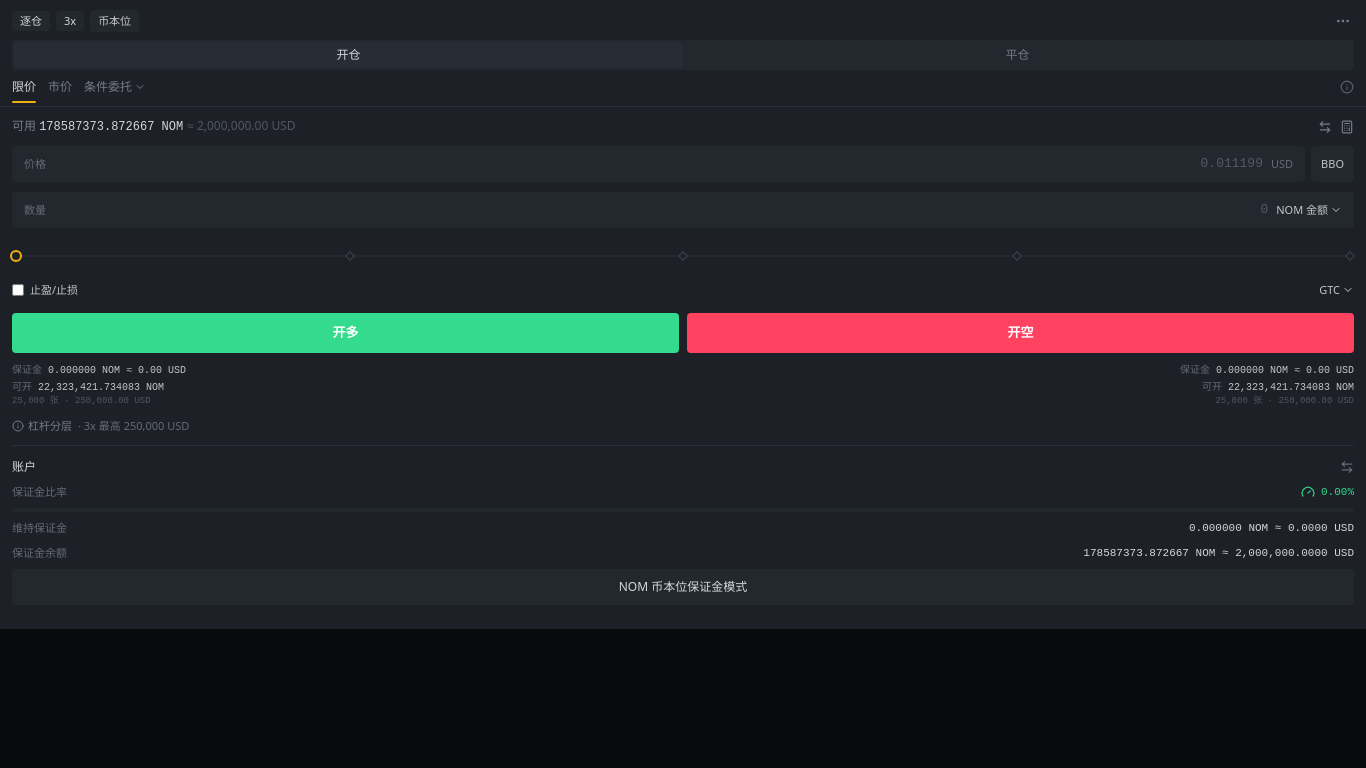
Test: 条件委托按触发价折算 › 【回归】填 1000 币：提示写 966.744006，不是市价折出来的 892.94
Click the button with test id "advanced-type-slot" at (115, 90), box [84,78,146,102]
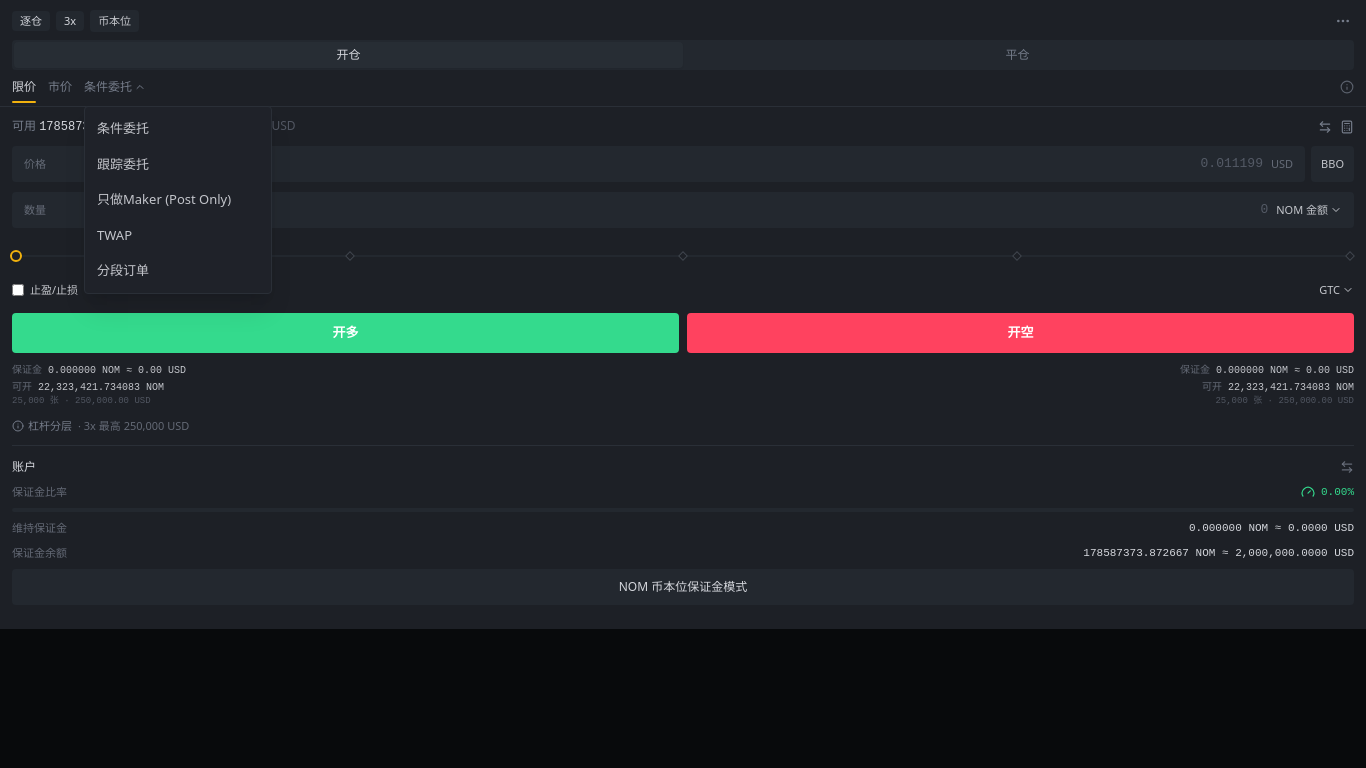
Click the 2nd button "条件委托" at (178, 129), box [85,111,271,146]
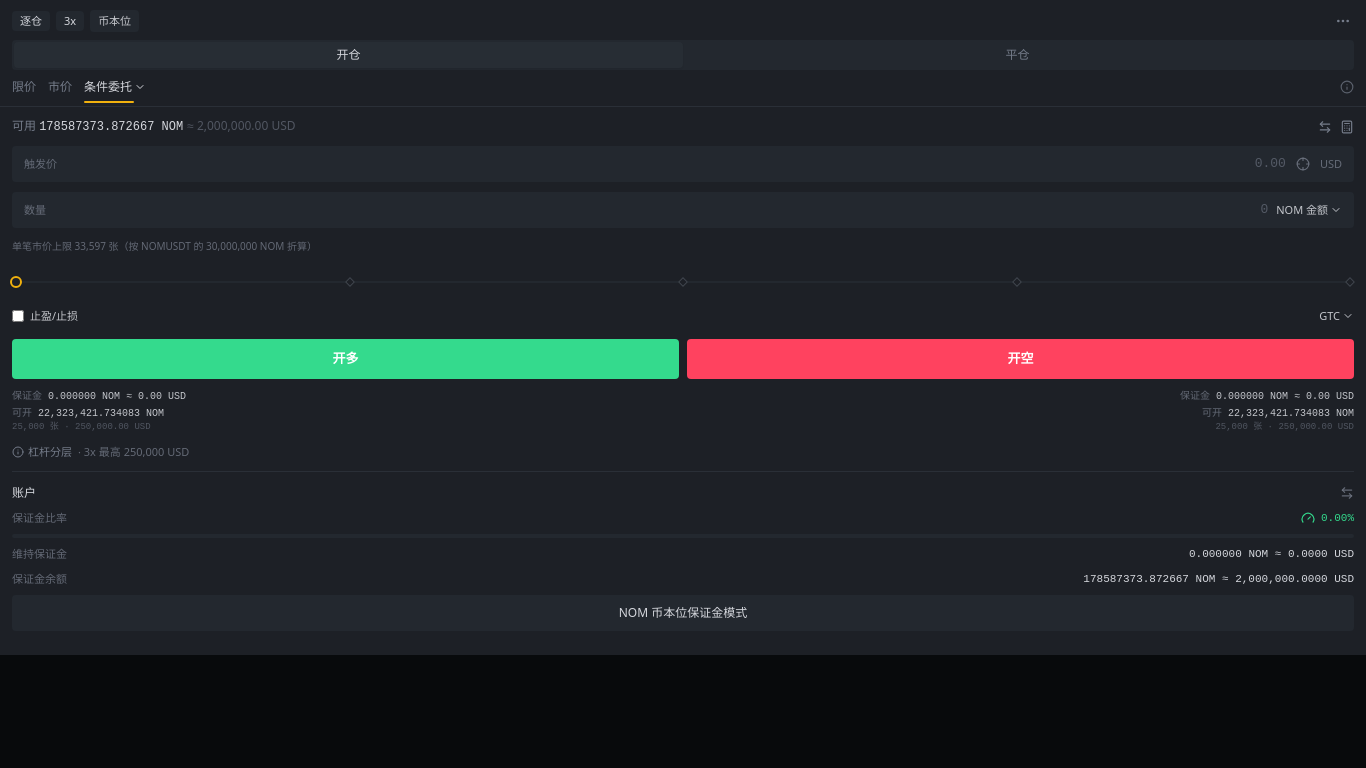
Type "0.010344" into the field with test id "order-trigger-price" at (675, 164), box [65,154,1286,174]
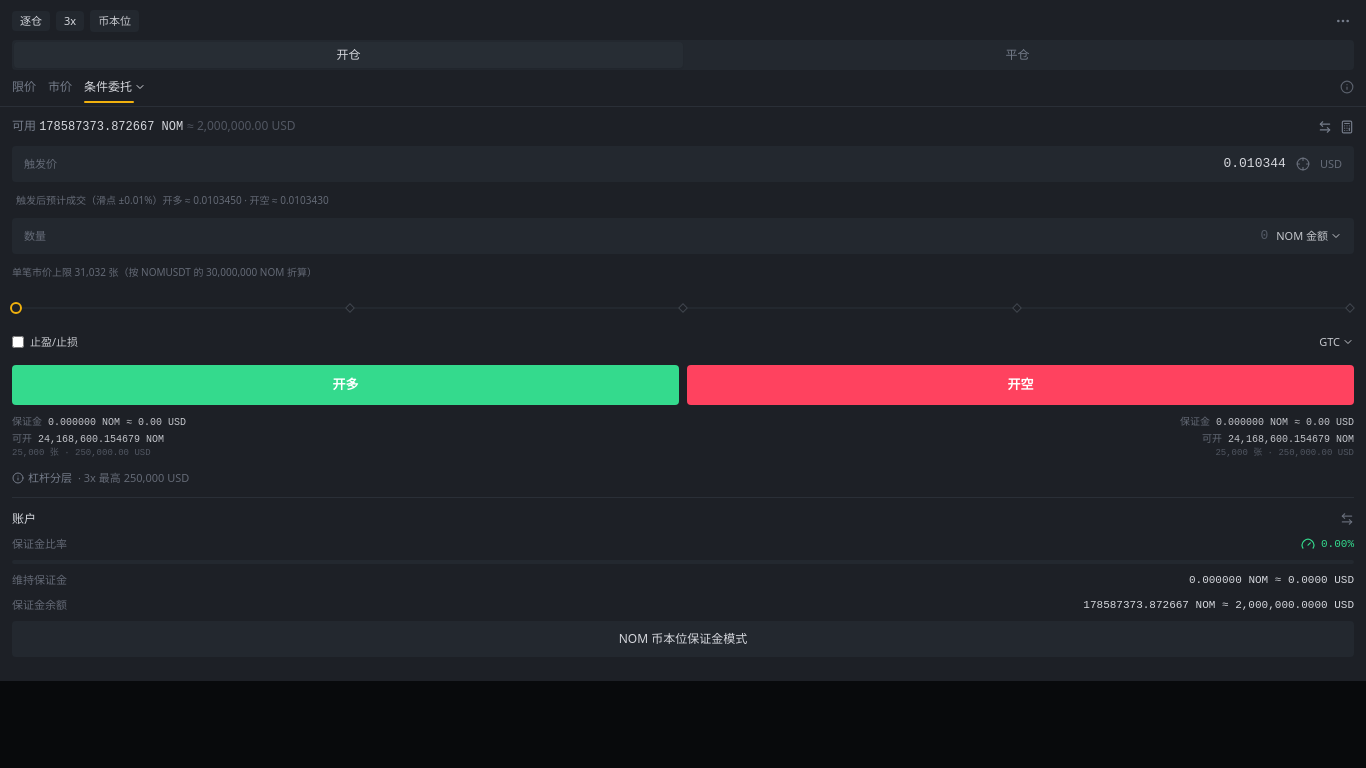
Type "1000" into the field with test id "order-qty-input" at (661, 236), box [54,226,1268,246]
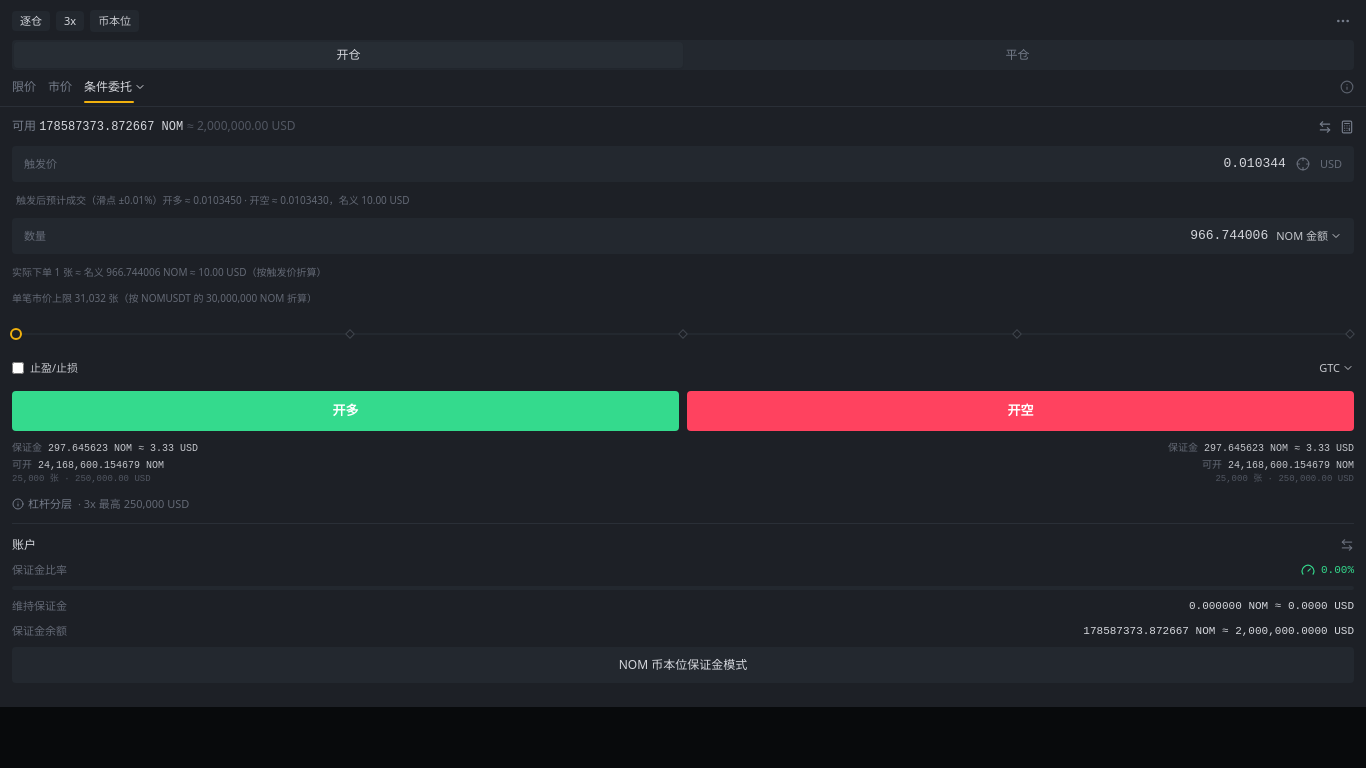
Check: the text with test id "coin-effective-qty-hint" shows "实际下单 1 张", box [12,265,326,279]
Check: the text with test id "coin-effective-qty-hint" shows "966.744006 NOM", box [106,265,188,279]
Check: the text with test id "coin-effective-qty-hint" shows "按触发价折算", box [12,265,326,279]
